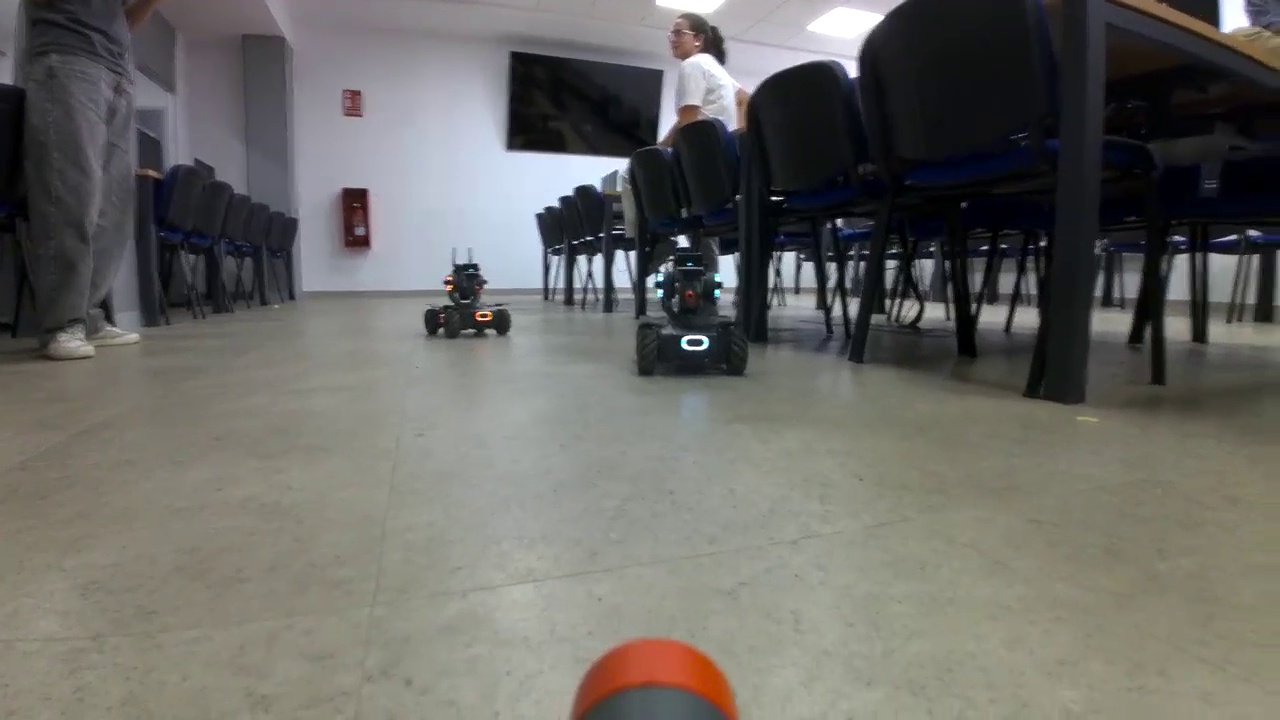robot: (636, 251, 749, 378), (424, 263, 513, 339)
